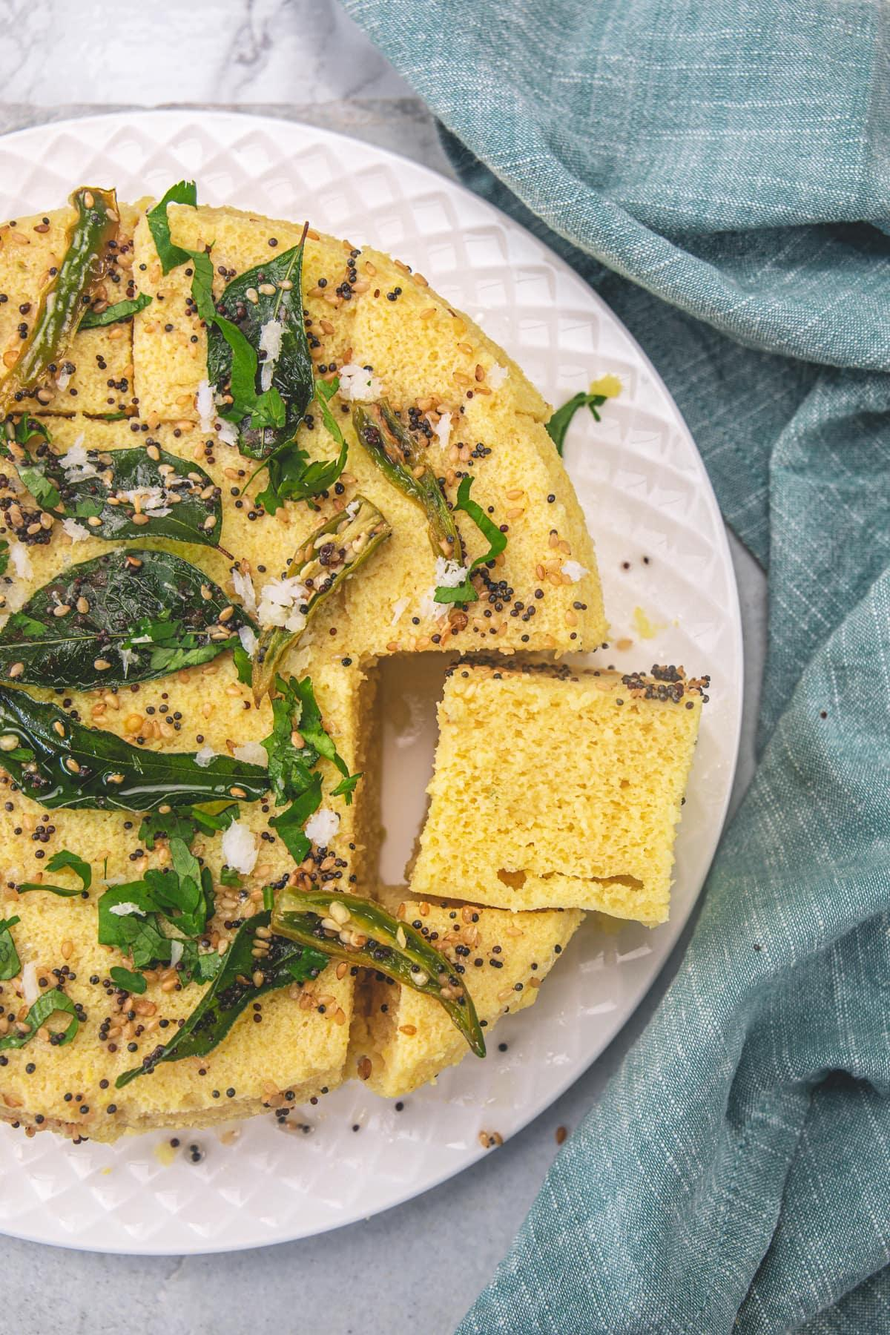dhokla: (4, 180, 671, 1142)
